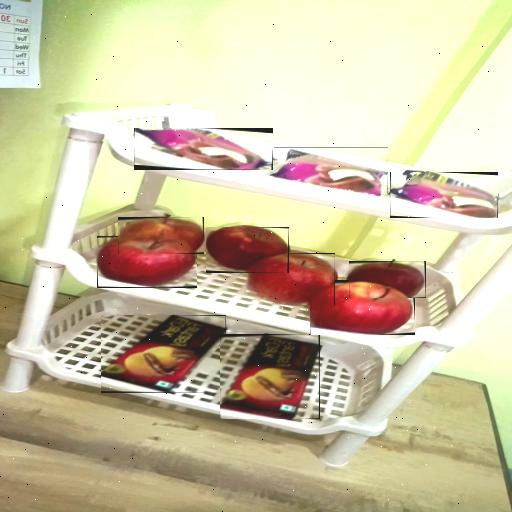Apple: (310, 280, 415, 335), (97, 236, 197, 288), (246, 253, 335, 305), (206, 227, 289, 273), (118, 217, 204, 254), (349, 261, 426, 298)
Choco Fills: (101, 315, 226, 393), (220, 334, 320, 419)
Choco Pie: (134, 128, 273, 170), (274, 147, 388, 194), (390, 172, 498, 218)
